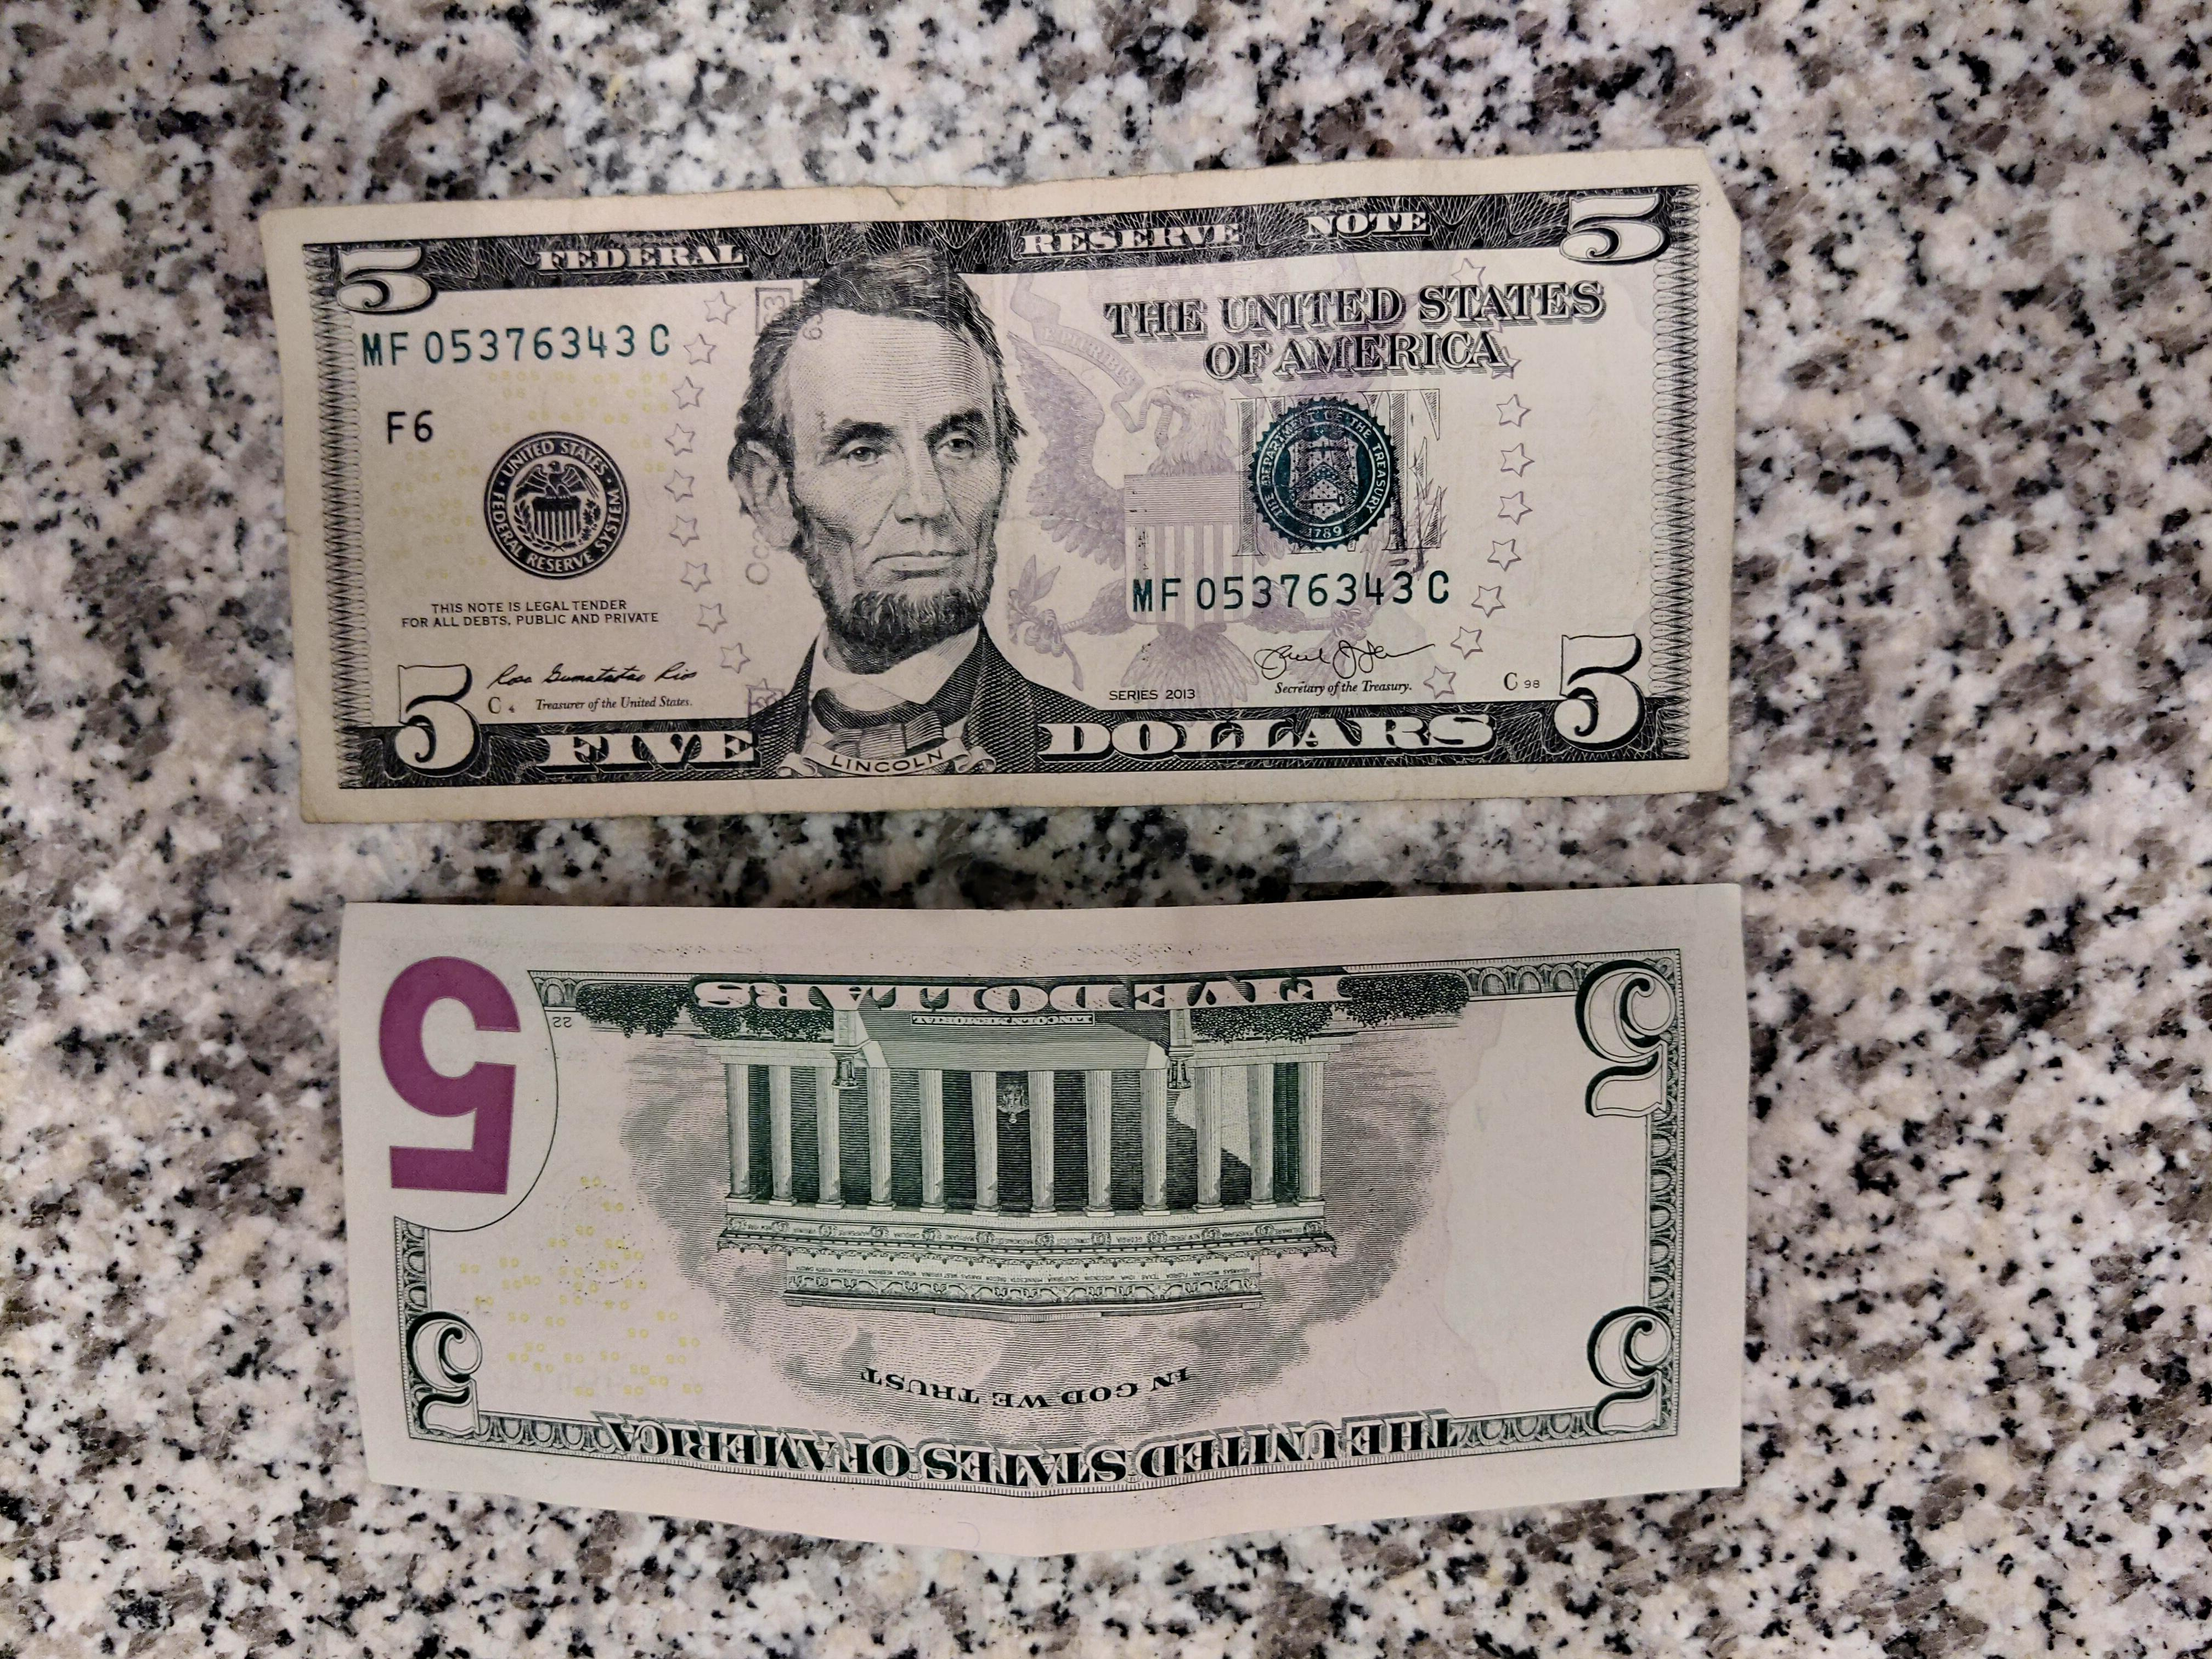FiveBill: (254, 141, 1749, 823), (327, 878, 1745, 1561)
